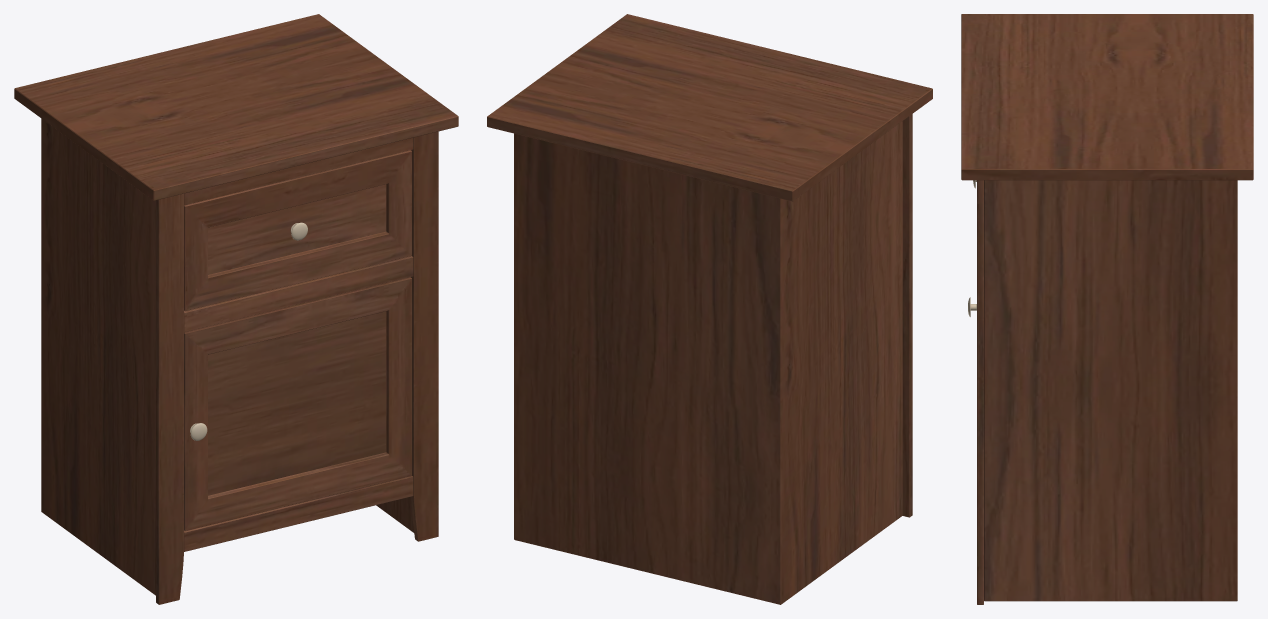
File: abo-B07Q2MHJCG.glb
3 renders of one model, left to right at view 1: azimuth 30°, elevation 25°; view 2: azimuth 150°, elevation 25°; view 3: azimuth 270°, elevation 25°, orthographic. The views are drawn at different scales.
Bounding box in the file's own units: 0.48 × 0.636 × 0.381.
Materials: 1 (1 with a texture image).
